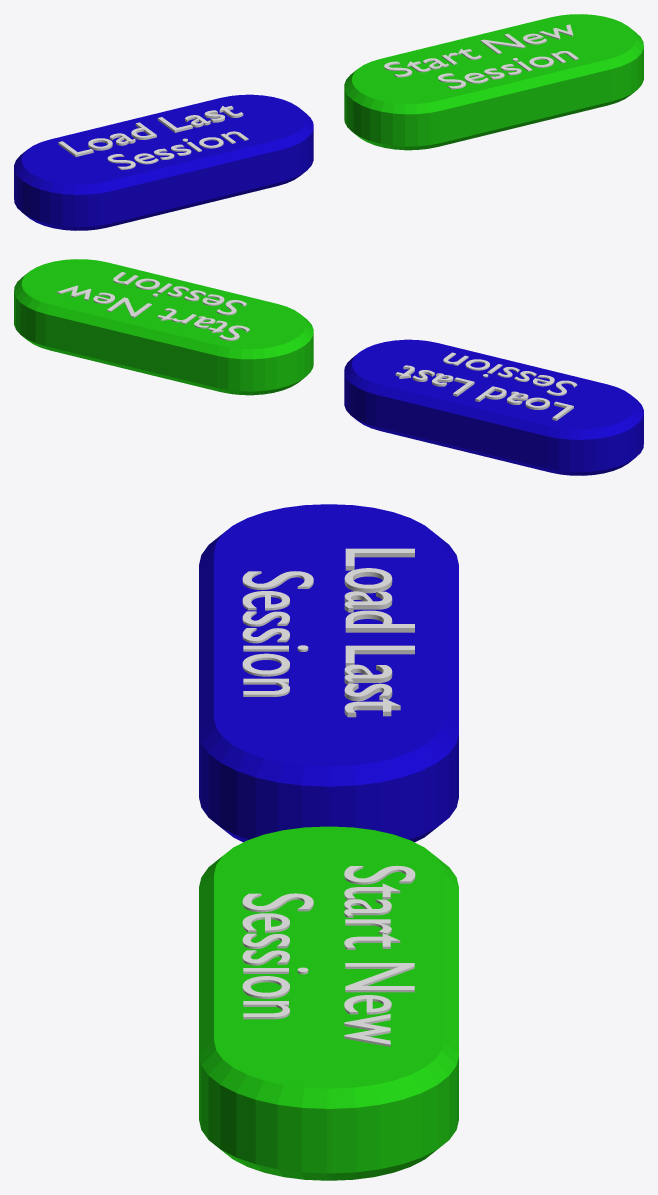
Rendered from Splash screen Buttons.fbx.
The picture shows the model from 3 angles, top to bottom: view 1: azimuth 30°, elevation 25°; view 2: azimuth 150°, elevation 25°; view 3: azimuth 270°, elevation 25°; orthographic projection. The views are drawn at different scales.
Visible parts, largest first — view 1: Start New Session Button, Load Last Session Button, Load Last, Start new, Session left, session right; view 2: Start New Session Button, Load Last Session Button, Load Last, Start new, session right, Session left; view 3: Start New Session Button, Load Last Session Button, Load Last, Start new, Session left, session right.
Boxes of the visible parts, x1,y1,x2,y2 form: Start New Session Button: (344, 14, 643, 150); Load Last Session Button: (14, 94, 313, 230); Load Last: (58, 106, 243, 156); Start new: (384, 24, 573, 77); Session left: (107, 131, 248, 169); session right: (438, 51, 578, 89); Start New Session Button: (14, 259, 313, 395); Load Last Session Button: (344, 339, 643, 475); Load Last: (395, 365, 573, 420); Start new: (56, 285, 249, 340); session right: (113, 272, 246, 315); Session left: (443, 352, 577, 395); Start New Session Button: (199, 826, 458, 1180); Load Last Session Button: (199, 504, 458, 842); Load Last: (344, 548, 414, 717); Start new: (344, 865, 415, 1046); Session left: (242, 571, 313, 696); session right: (242, 893, 313, 1019).
Bounding box in the file's own units: 278 × 21 × 51.2.
